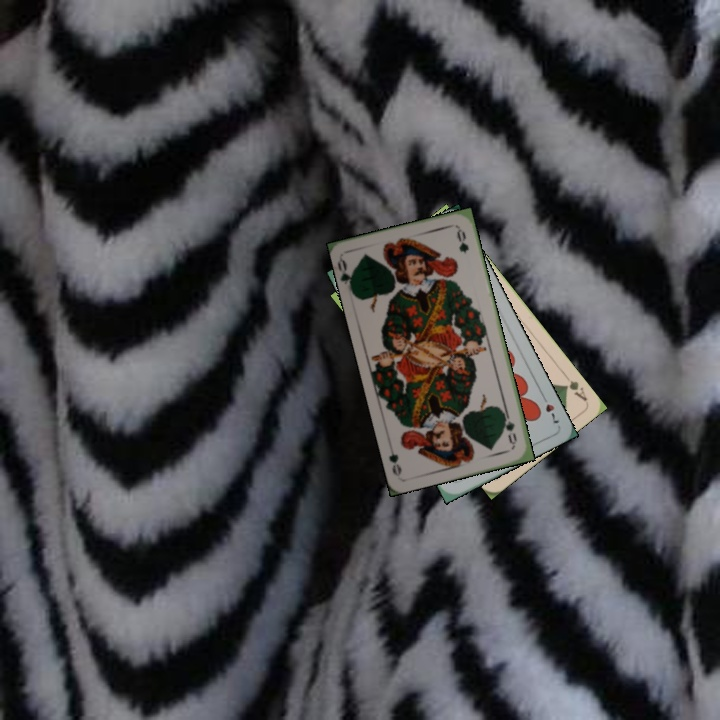GA: (560, 376, 590, 404)
GO: (334, 255, 357, 294), (498, 408, 520, 448)
H7: (537, 390, 562, 426)
